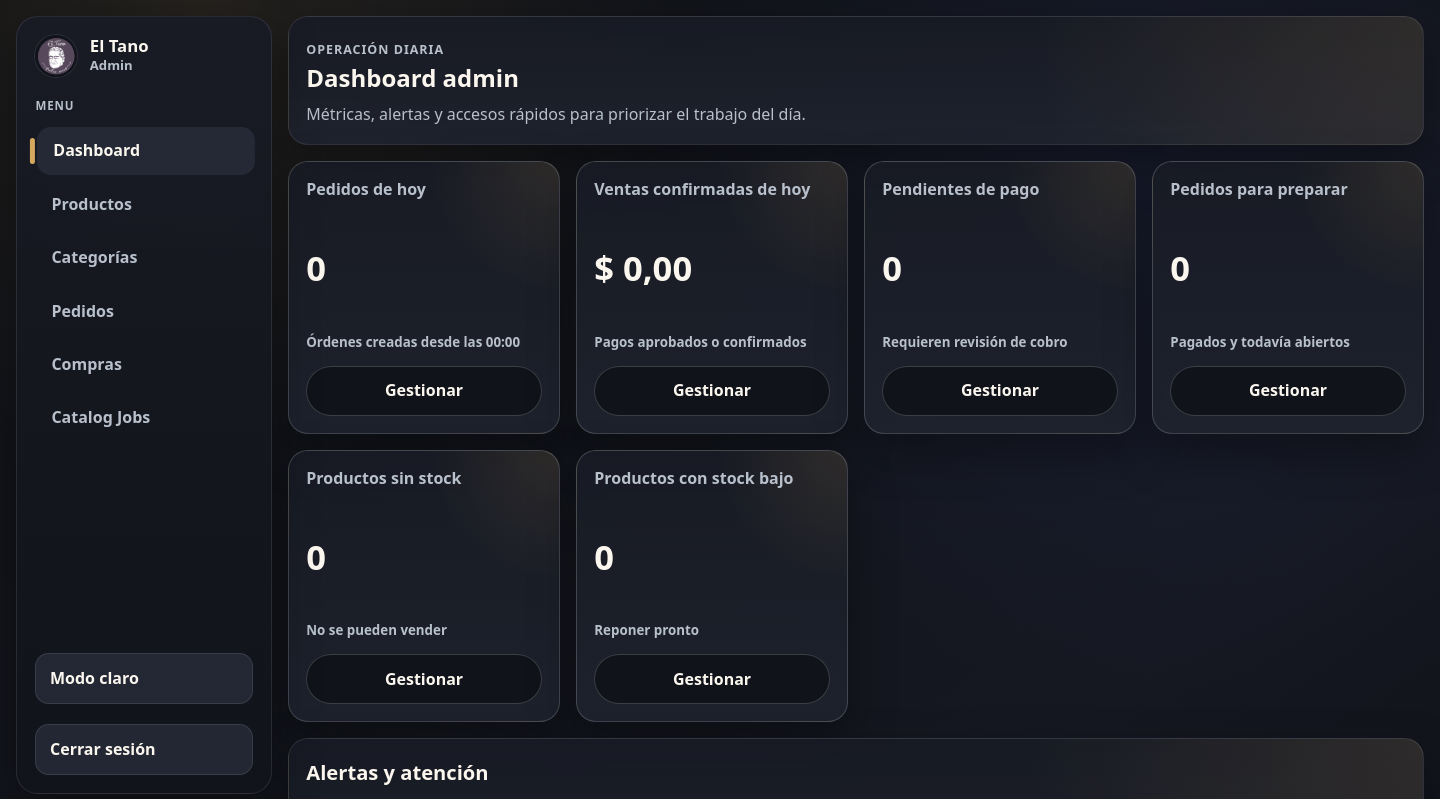
AppRoutes admin nested routes › keeps admin logout accessible and returns to login after backend logout
expect the heading "Dashboard admin" is shown: met, box [306,61,519,94]
Click the button "Cerrar sesión" at (144, 749), box [35,724,253,775]
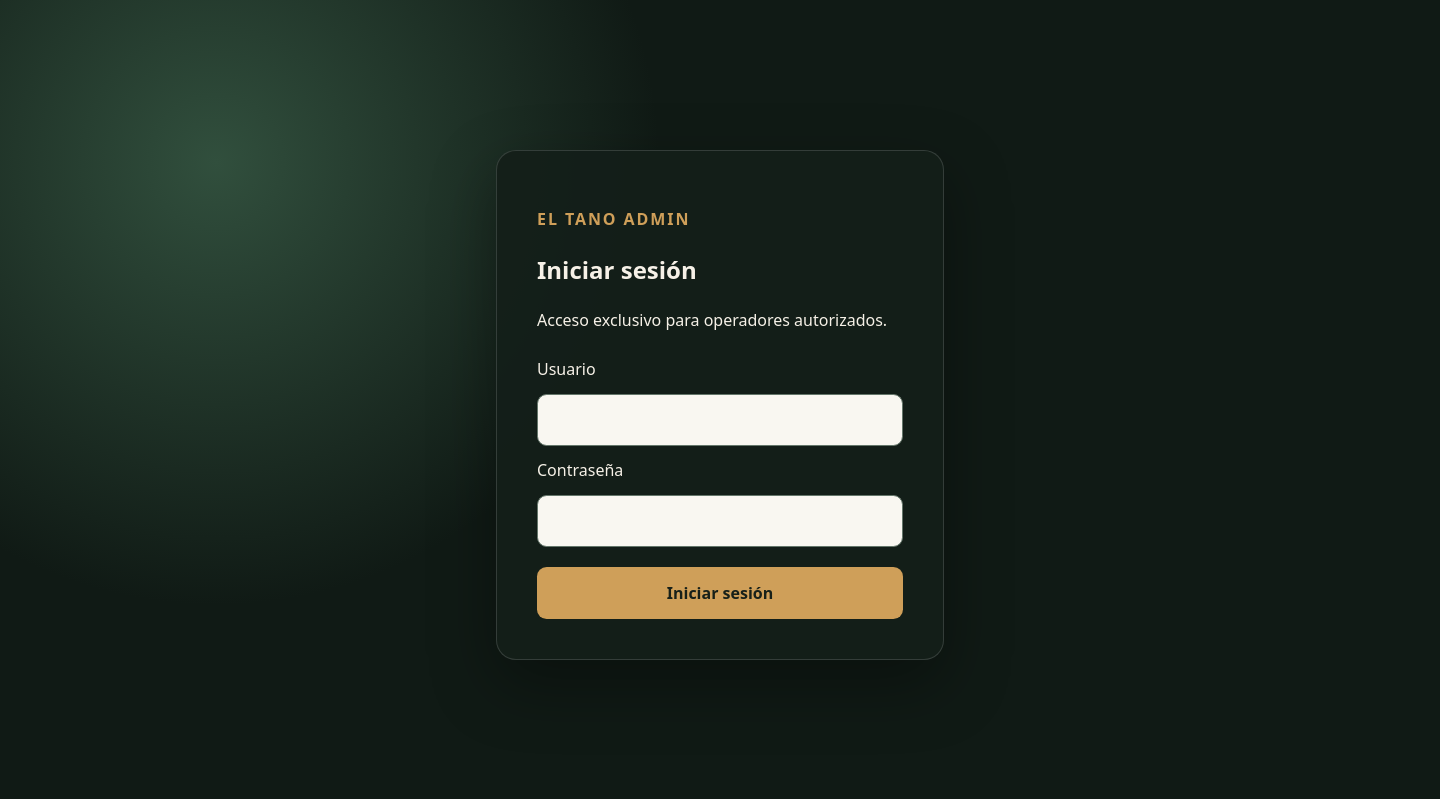
expect the heading "Iniciar sesión" is shown: met, box [537,253,697,286]
